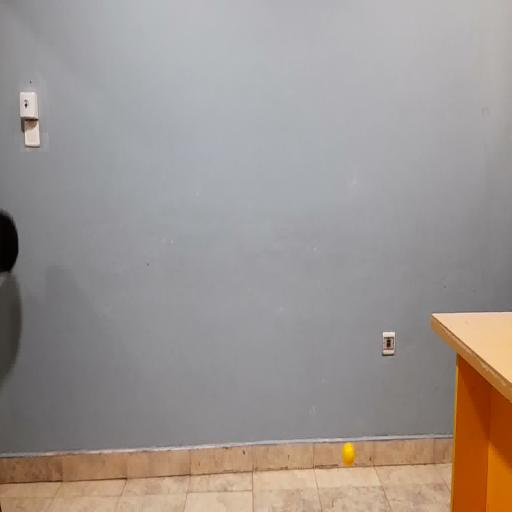plastic-ball: (341, 440, 356, 469)
